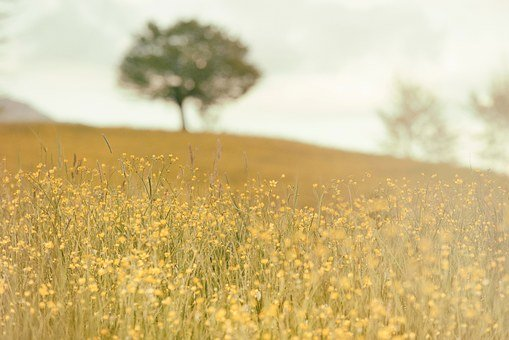field: (4, 127, 509, 333)
tree: (116, 19, 267, 134)
